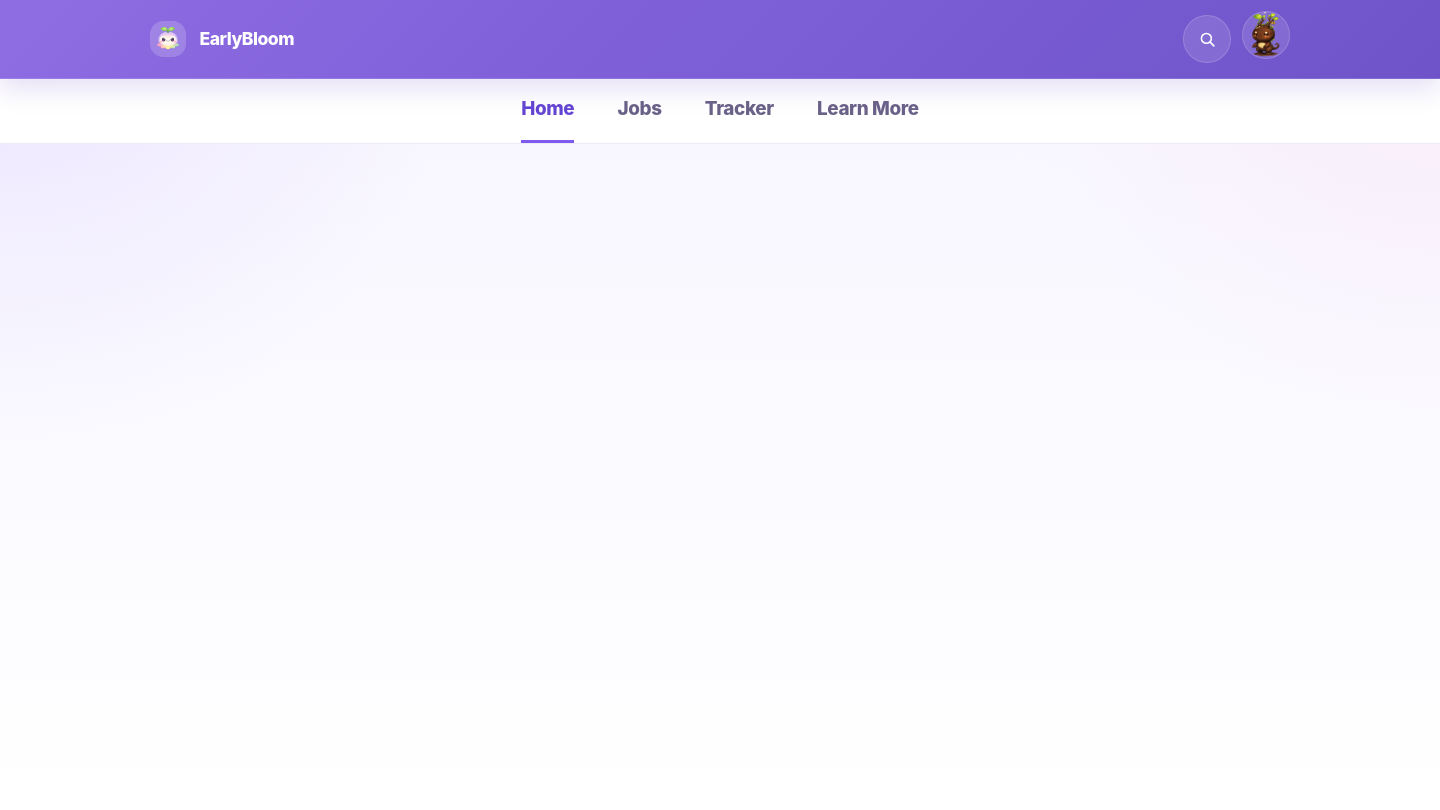
Test: Navbar › closes menu on outside click
The image size is (1440, 810).
Click the button named "Open profile menu".
click(1266, 35)  # box 1242,11 -> 1290,59
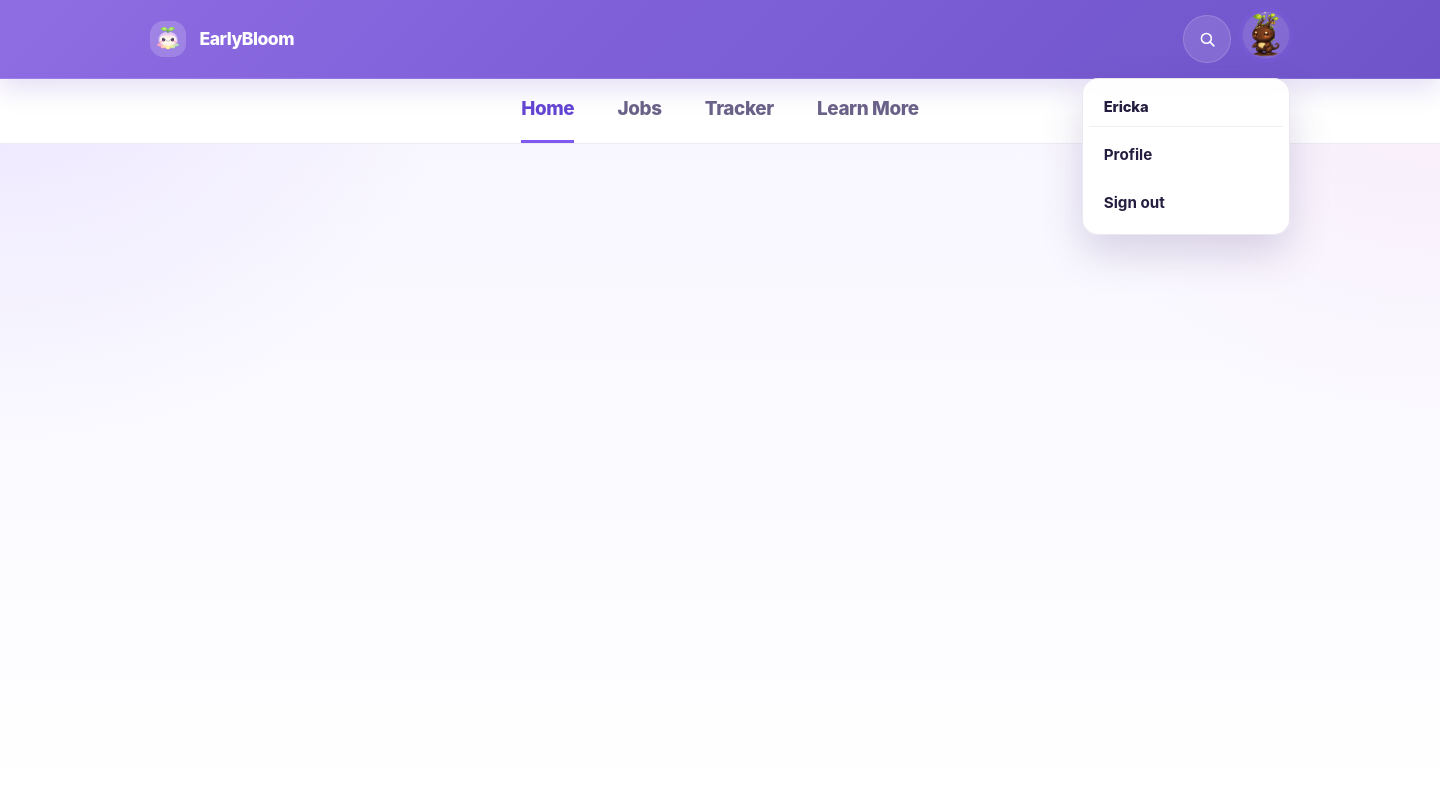
Press the mouse on the element that starts with "EarlyBloom" at (720, 405), box 0,0 -> 1439,809
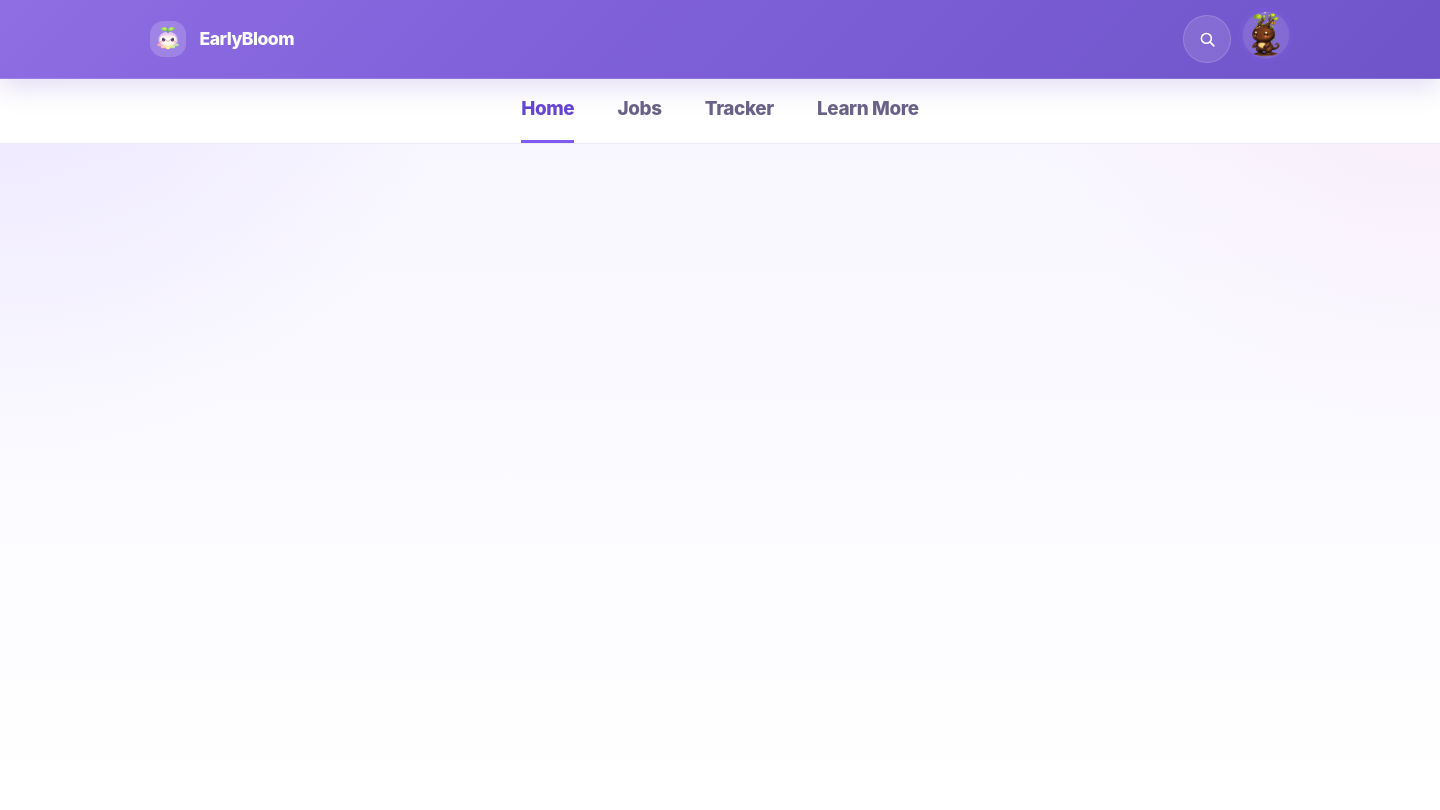
Expected: the menu item "Profile" is gone
